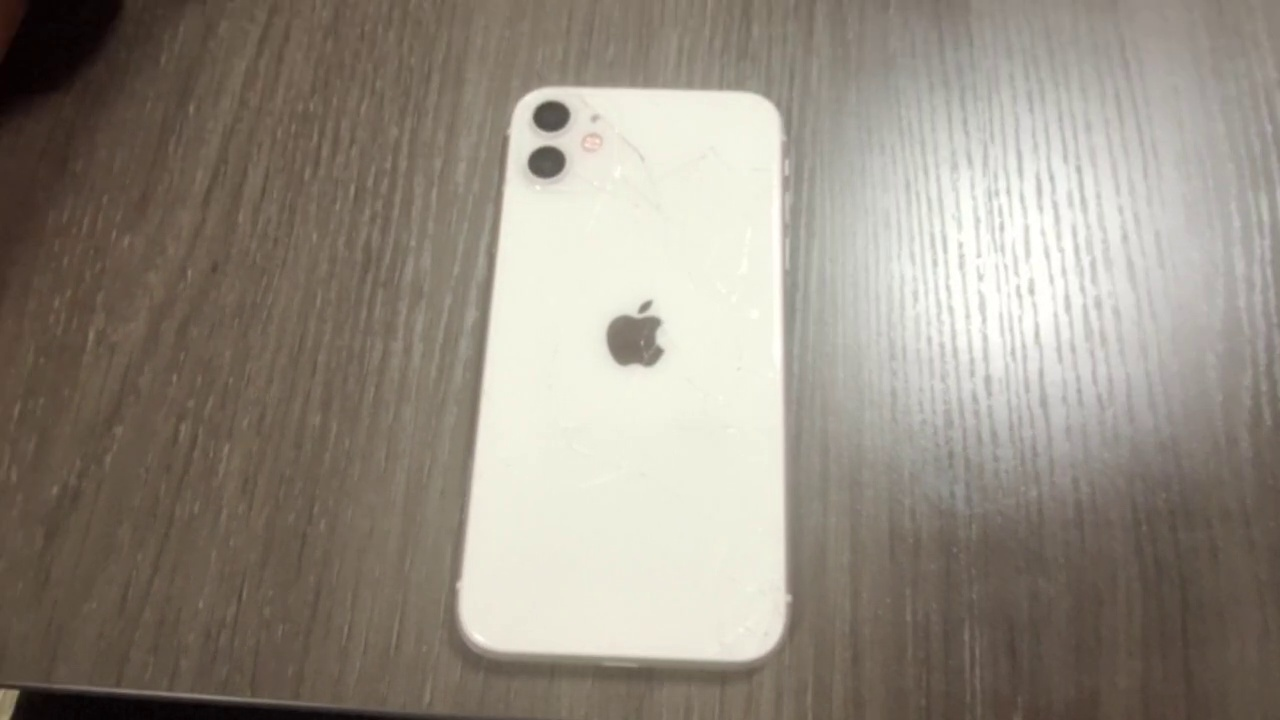celular: (457, 83, 793, 672)
